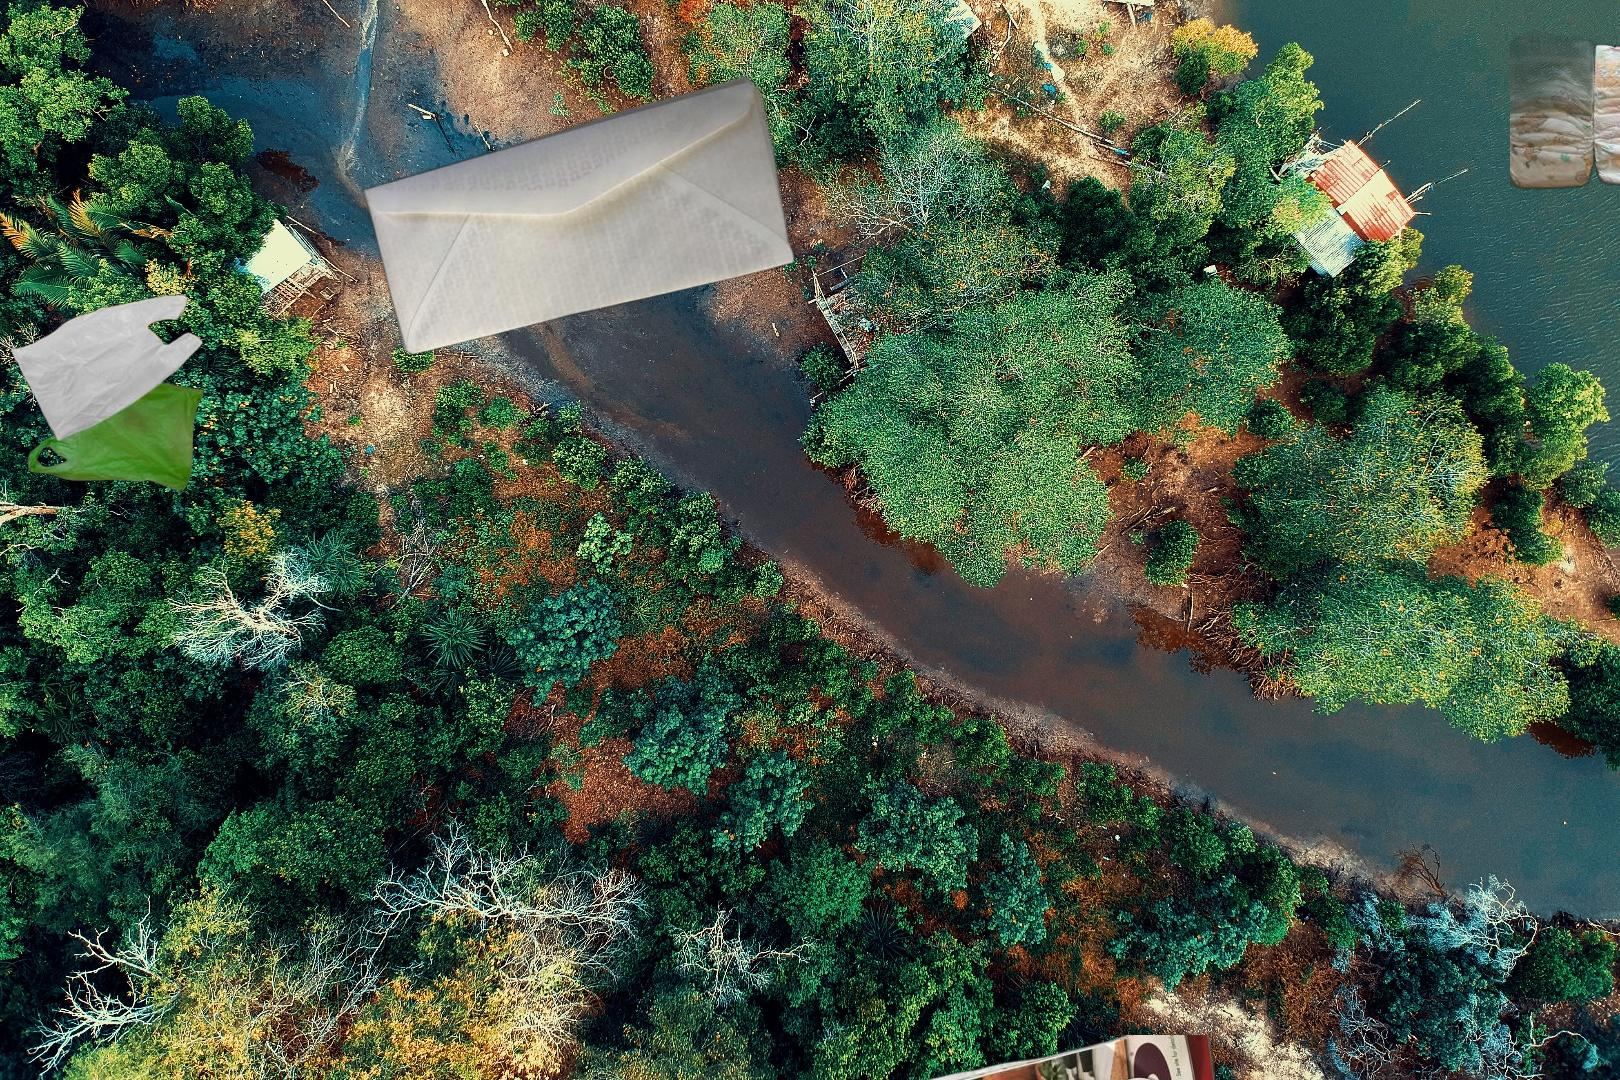paper: (359, 72, 799, 358), (834, 1035, 1270, 1080)
plastic-bag: (8, 292, 205, 493)
trash: (1510, 1, 1620, 195)
